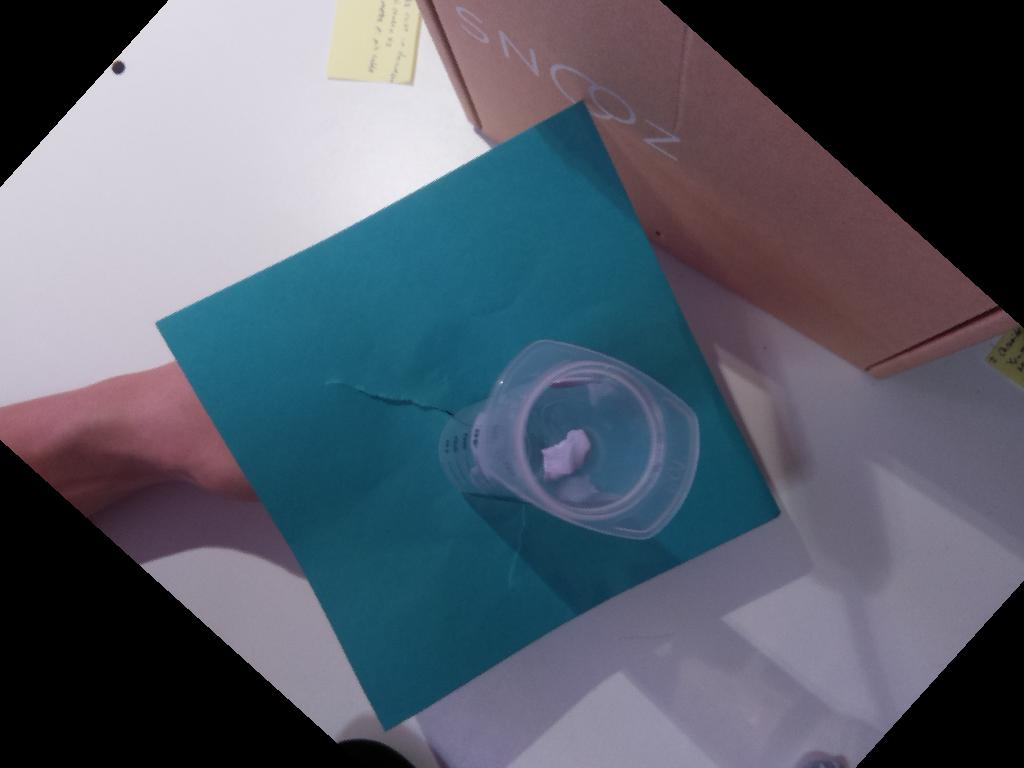dirty: (477, 338, 703, 540)
